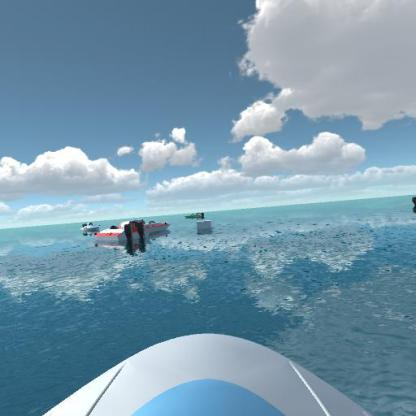usv0: (182, 208, 204, 224)
usv1: (78, 220, 103, 237)
usv3: (95, 220, 150, 254), (125, 214, 171, 239)
